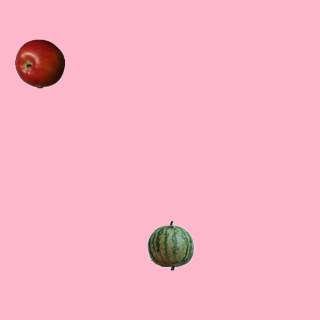Apple Braeburn: (14, 38, 64, 88)
Watermelon: (145, 220, 195, 270)
